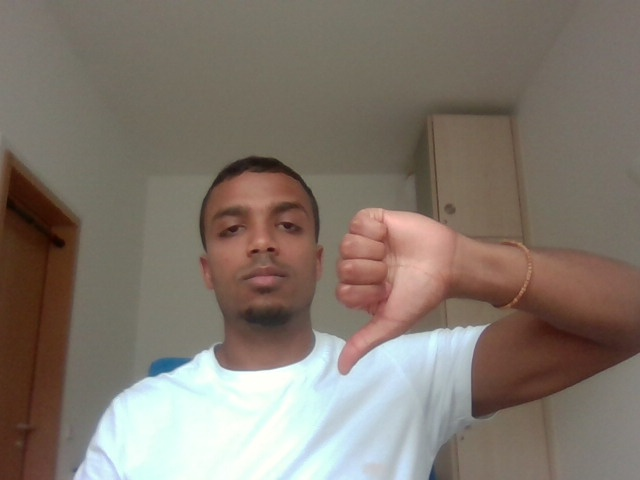no: (321, 182, 479, 404)
